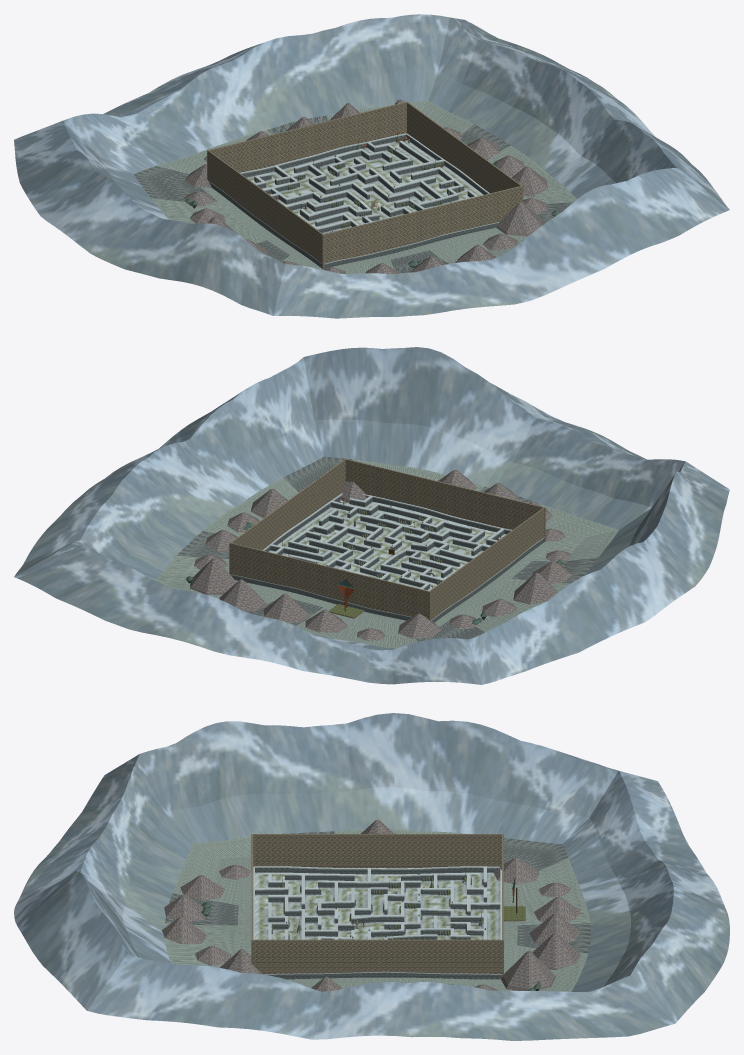
Rendered from KiteCrag.fbx.
3 renders of one model, top to bottom at view 1: azimuth 30°, elevation 25°; view 2: azimuth 150°, elevation 25°; view 3: azimuth 270°, elevation 25°, orthographic. The views are drawn at different scales.
Visible parts, largest first — view 1: Surroundings, C_Solids, Rim, Horizon, Terrain, Set; view 2: Surroundings, C_Solids, Rim, Horizon, Terrain, Set; view 3: Surroundings, C_Solids, Rim, Horizon, Terrain, Set.
Part boxes in pixels (<box>): Surroundings: <box>14,14,729,318</box>; C_Solids: <box>207,101,523,268</box>; Rim: <box>208,133,499,268</box>; Horizon: <box>183,99,547,274</box>; Terrain: <box>246,140,483,233</box>; Set: <box>256,129,460,231</box>; Surroundings: <box>14,347,729,684</box>; C_Solids: <box>229,458,545,620</box>; Rim: <box>231,493,544,622</box>; Horizon: <box>190,470,572,640</box>; Terrain: <box>268,500,506,590</box>; Set: <box>280,497,500,611</box>; Surroundings: <box>14,713,729,1040</box>; C_Solids: <box>251,834,503,976</box>; Rim: <box>253,866,501,979</box>; Horizon: <box>162,819,580,991</box>; Terrain: <box>255,872,500,939</box>; Set: <box>271,870,517,939</box>.
Bounding box in the file's own units: 34196 × 6010 × 34577.
